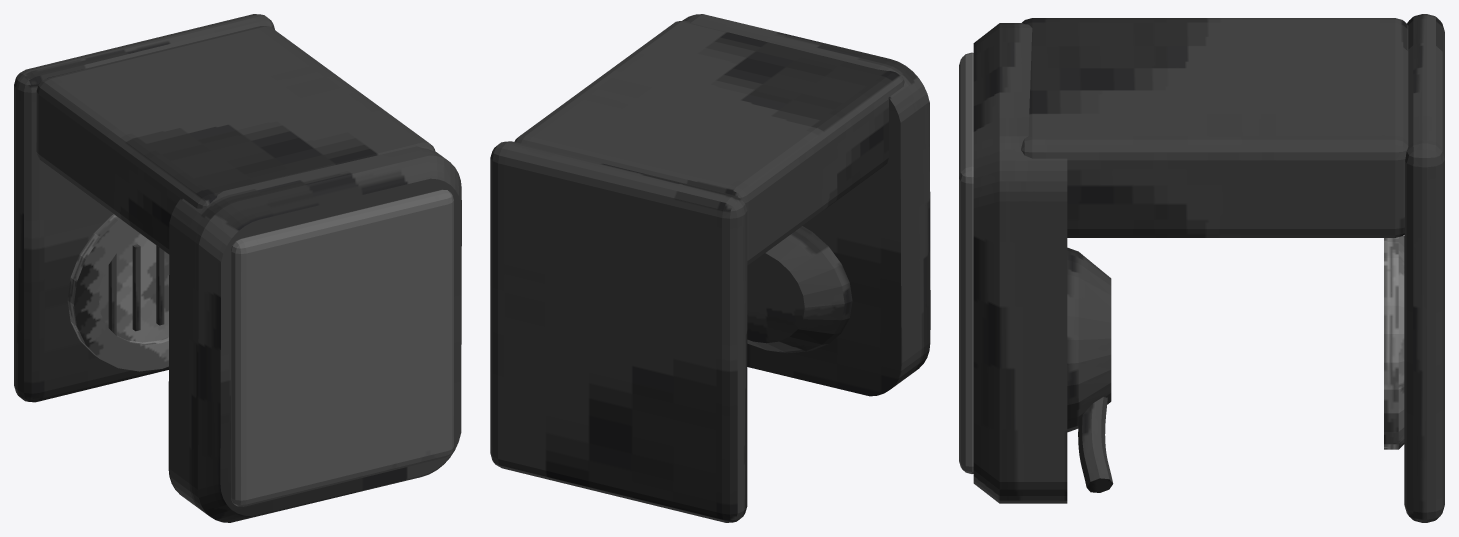
The model's file is pz_coffee_xpress.obj.
3 renders of one model, left to right at view 1: azimuth 30°, elevation 25°; view 2: azimuth 150°, elevation 25°; view 3: azimuth 270°, elevation 25°, orthographic. The views are drawn at different scales.
Visible parts, largest first — view 1: pz_coffee_xpress_|_native_grey_top_lid, pz_coffee_xpress_|_rear_upright_water_reservoir, pz_coffee_xpress_|_rounded_overhanging_brewer_head, pz_coffee_xpress_|_stable_drip_base, pz_coffee_xpress_|_open_circular_drip_tray, pz_coffee_xpress_|_drip_tray_slots.001, pz_coffee_xpress_|_drip_tray_slots.002, pz_coffee_xpress_|_drip_tray_slots; view 2: pz_coffee_xpress_|_stable_drip_base, pz_coffee_xpress_|_rear_upright_water_reservoir, pz_coffee_xpress_|_rounded_overhanging_brewer_head, pz_coffee_xpress_|_filter_holder_underside; view 3: pz_coffee_xpress_|_rear_upright_water_reservoir, pz_coffee_xpress_|_rounded_overhanging_brewer_head, pz_coffee_xpress_|_stable_drip_base, pz_coffee_xpress_|_filter_holder_underside, pz_coffee_xpress_|_native_grey_top_lid, pz_coffee_xpress_|_open_circular_drip_tray, pz_coffee_xpress_|_EDITABLE_curved_filter_handle.
Part boxes in pixels (x1,y1,x2,y2): pz_coffee_xpress_|_native_grey_top_lid: (231,189,453,506); pz_coffee_xpress_|_rear_upright_water_reservoir: (36,26,435,254); pz_coffee_xpress_|_rounded_overhanging_brewer_head: (168,146,461,522); pz_coffee_xpress_|_stable_drip_base: (14,14,274,402); pz_coffee_xpress_|_open_circular_drip_tray: (67,214,169,371); pz_coffee_xpress_|_drip_tray_slots.001: (132,244,140,331); pz_coffee_xpress_|_drip_tray_slots.002: (156,245,164,325); pz_coffee_xpress_|_drip_tray_slots: (108,253,116,335); pz_coffee_xpress_|_stable_drip_base: (490,141,747,522); pz_coffee_xpress_|_rear_upright_water_reservoir: (514,21,904,265); pz_coffee_xpress_|_rounded_overhanging_brewer_head: (682,14,930,396); pz_coffee_xpress_|_filter_holder_underside: (747,226,852,353); pz_coffee_xpress_|_rear_upright_water_reservoir: (1021,18,1408,237); pz_coffee_xpress_|_rounded_overhanging_brewer_head: (973,23,1067,503); pz_coffee_xpress_|_stable_drip_base: (1404,14,1444,522); pz_coffee_xpress_|_filter_holder_underside: (1067,247,1111,432); pz_coffee_xpress_|_native_grey_top_lid: (959,52,973,473); pz_coffee_xpress_|_open_circular_drip_tray: (1384,235,1404,449); pz_coffee_xpress_|_EDITABLE_curved_filter_handle: (1078,397,1113,492).
Bounding box in the file's own units: 0.31 × 0.37 × 0.431.
2 materials, 2 textured.
